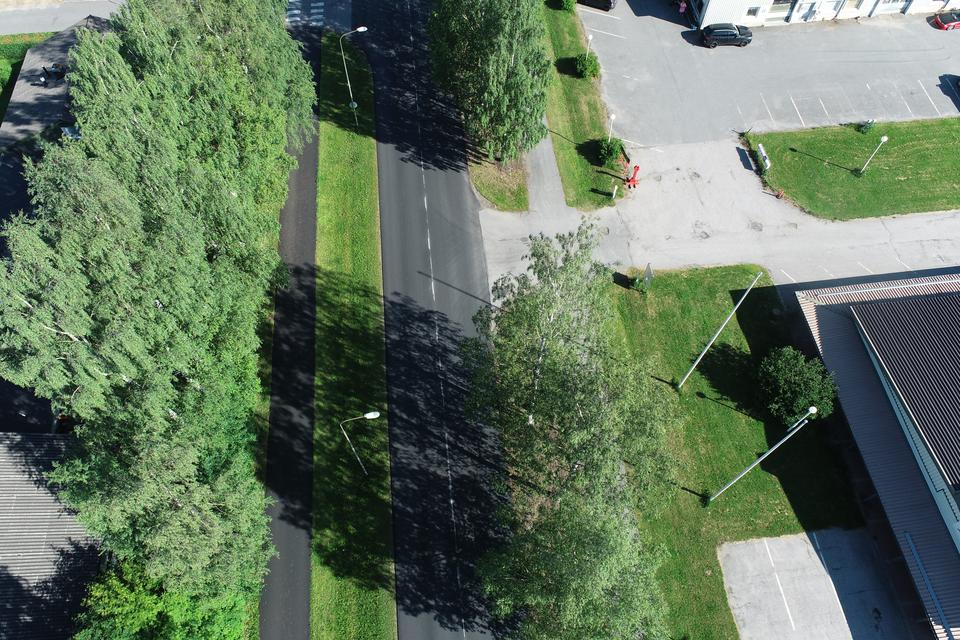intersection: (352, 185, 632, 294), (276, 0, 441, 65)
